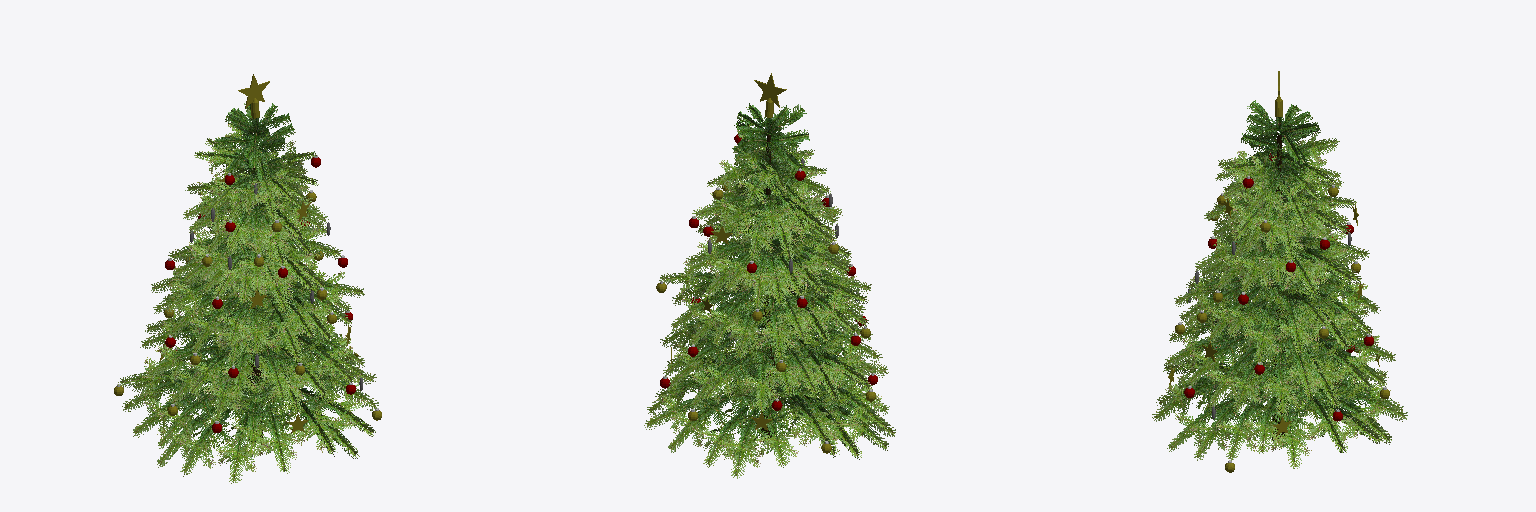
The picture shows the model from 3 angles: view 1: azimuth 30°, elevation 25°; view 2: azimuth 150°, elevation 25°; view 3: azimuth 270°, elevation 25°; orthographic projection.
Visible parts, largest first — view 1: leaves_Plane.085, star.001_Circle.001; view 2: leaves_Plane.085, star.001_Circle.001; view 3: leaves_Plane.085.
Boxes of the visible parts, x1=… form: leaves_Plane.085: x1=118, y1=103, x2=378, y2=483; star.001_Circle.001: x1=238, y1=74, x2=269, y2=118; leaves_Plane.085: x1=644, y1=103, x2=895, y2=478; star.001_Circle.001: x1=754, y1=73, x2=786, y2=117; leaves_Plane.085: x1=1152, y1=100, x2=1407, y2=468.
Size of the model in its own units: 1.31 by 2.03 by 1.32.
Materials: 6 (1 with a texture image).